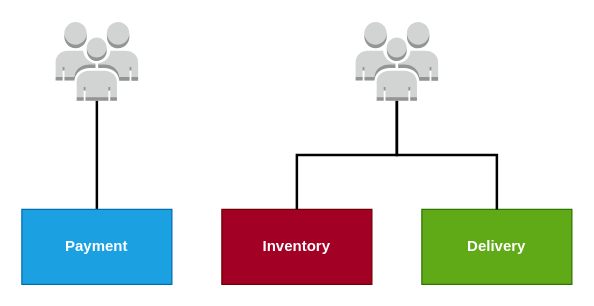
The diagram is 594 pixels wide and 306 high, and some of its shapes have lost their labels. The box of each missing label's shape, as (x1, y1, x2, y2) in pixels:
Team A: (54, 21, 138, 101)
Team B: (354, 21, 438, 101)
